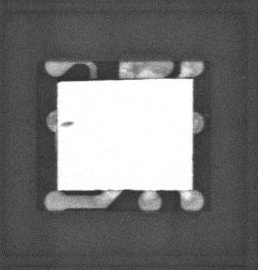DIE_INK: (56, 125, 72, 133)
